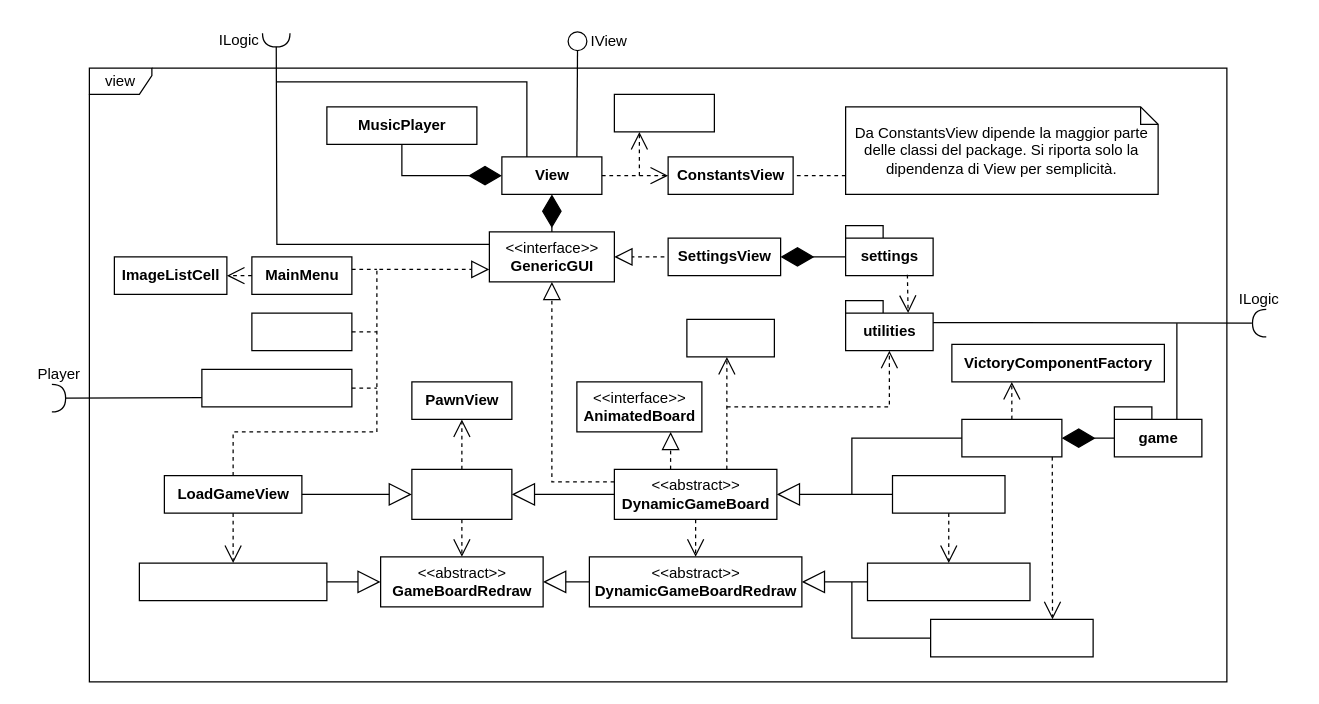
Some shapes in this 1319 by 704 pixel diagram are drawn without their labels. The centre of each missing label's shape, as x and y in pixels:
<<abstract>> GameBoard: pixel 461 493
App: pixel 663 112
DiceView: pixel 730 337
GameSetup: pixel 301 331
GameView: pixel 1011 437
GameViewRedraw: pixel 1011 637
LeaderboardView: pixel 276 387
LoadGameViewRedraw: pixel 232 581
TutorialView: pixel 948 493
TutorialViewRedraw: pixel 948 581
